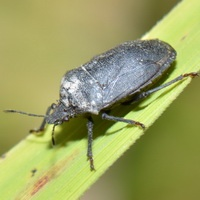insect: (0, 116, 143, 199), (110, 77, 190, 127), (154, 36, 199, 85)
